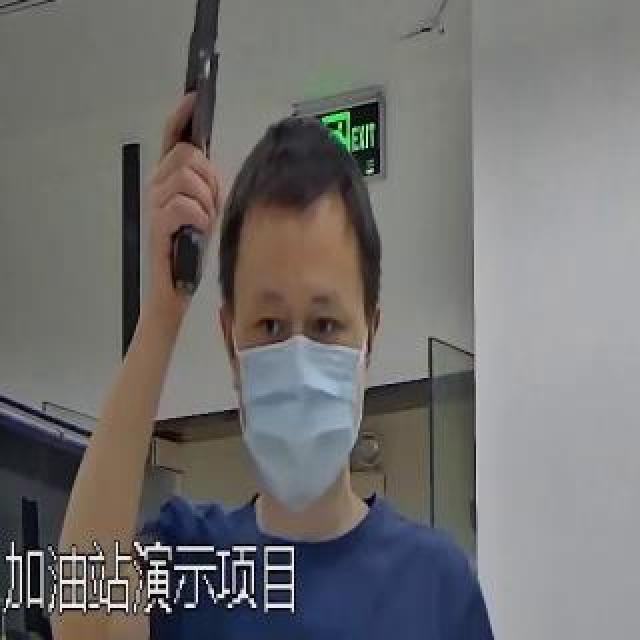Guns: (128, 0, 266, 306)
